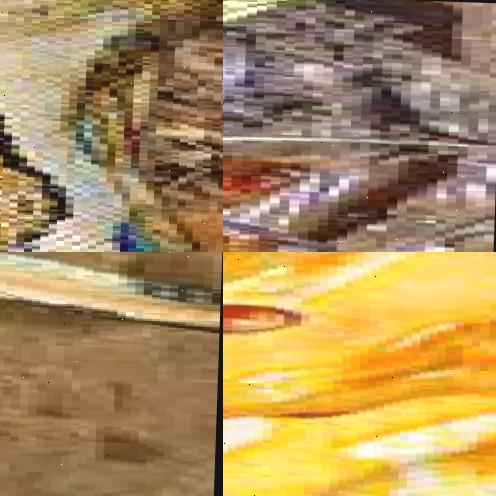2: (223, 0, 496, 252)
3: (0, 0, 223, 252)
5: (0, 252, 223, 457)
snake: (223, 252, 496, 496)
